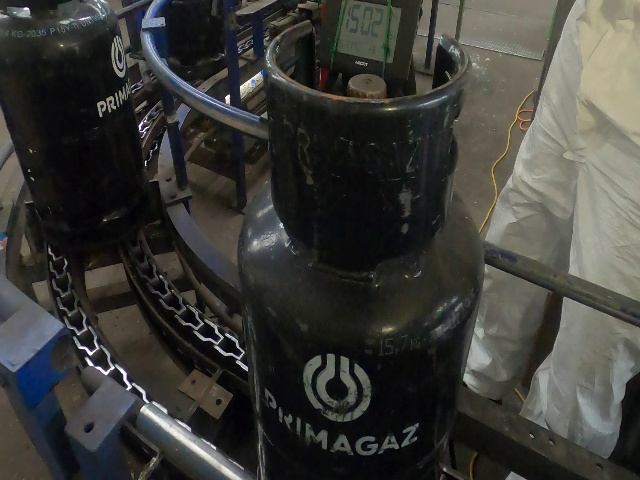gas_bottle: (0, 2, 635, 480)
